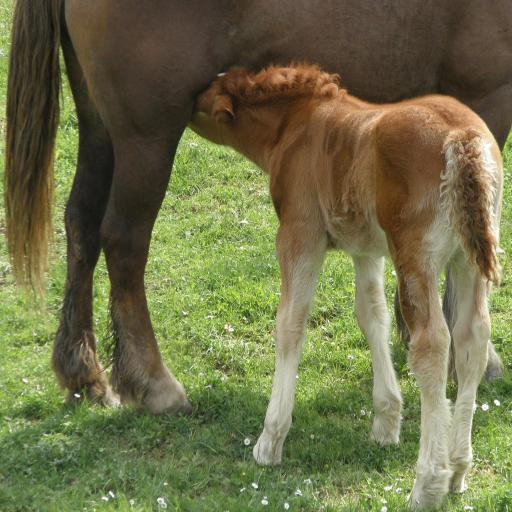horse: (2, 0, 512, 417), (184, 64, 508, 506)
